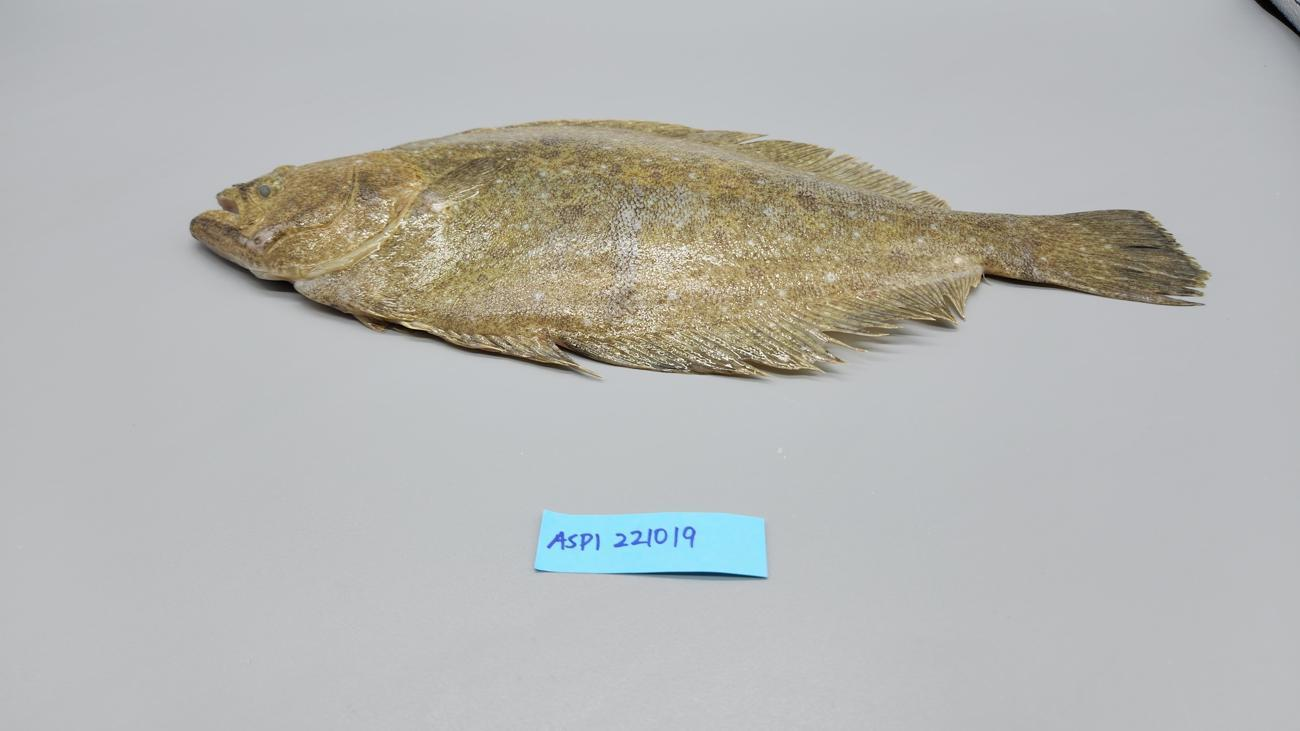SPOUY: (184, 112, 1218, 387)
